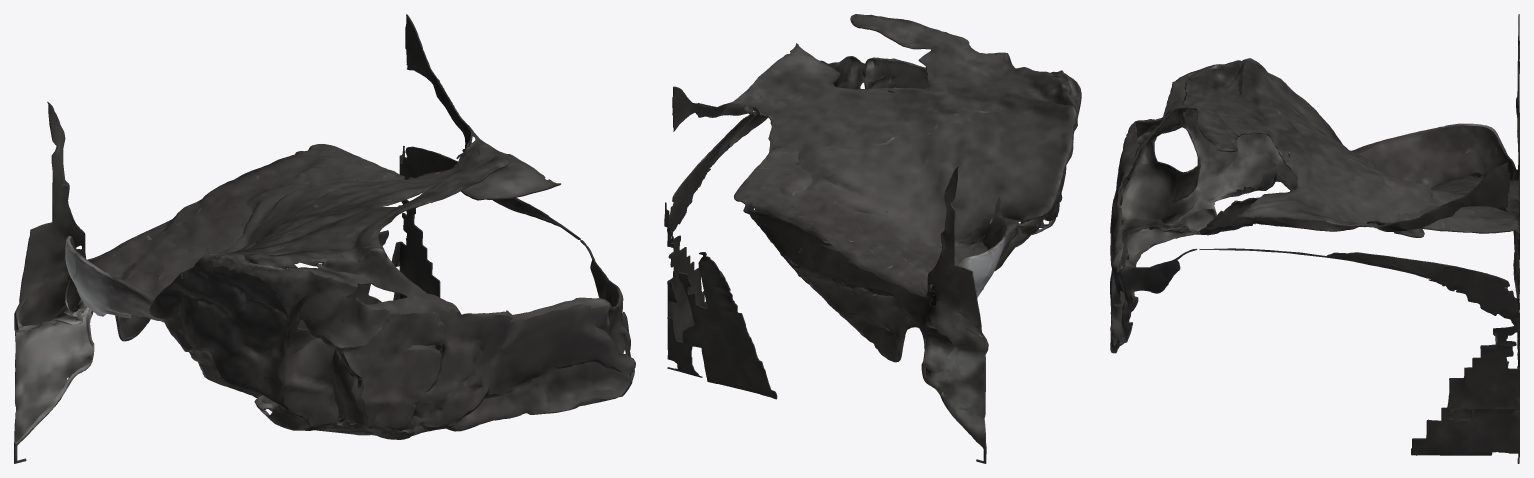
3 views of the same model, side by side, from view 1: azimuth 30°, elevation 25°; view 2: azimuth 150°, elevation 25°; view 3: azimuth 270°, elevation 25° (orthographic). The views are drawn at different scales.
Visible parts, largest first — view 1: world; view 2: world; view 3: world.
Part boxes in pixels (bbox=[...]): world: bbox=[14, 14, 635, 463]; world: bbox=[664, 14, 1081, 463]; world: bbox=[1110, 14, 1519, 463].
Bounding box in the file's own units: 3.5 × 3.02 × 3.51.
Materials: 1 (1 with a texture image).
